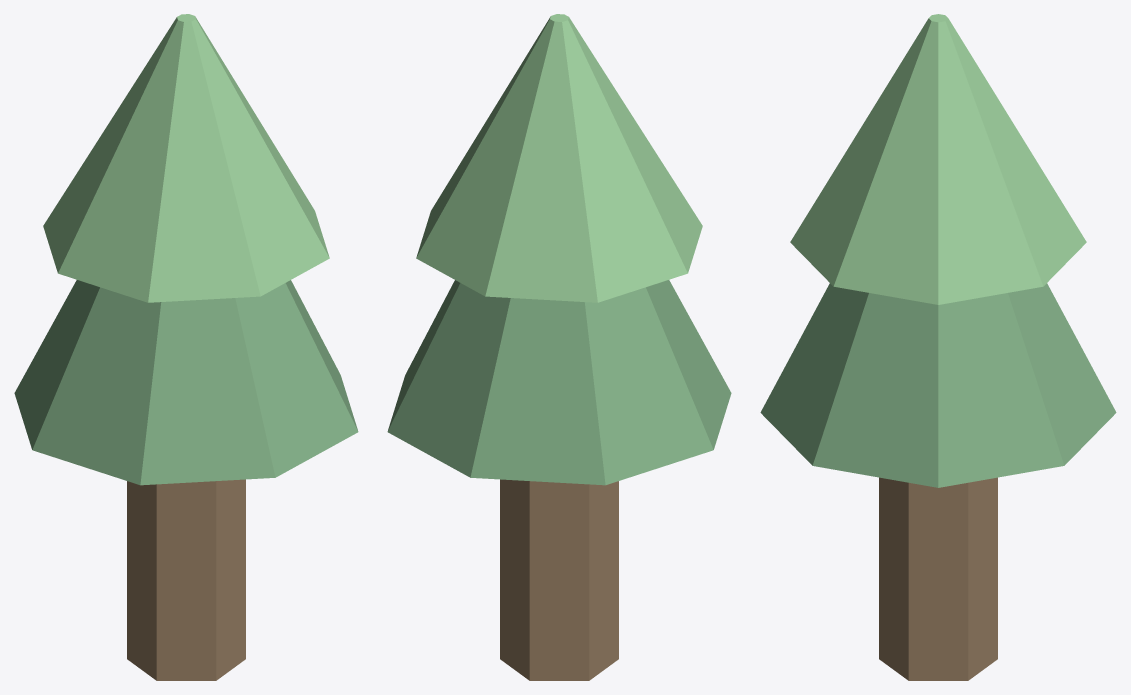
Rendered from tree_b.glb.
3 renders of one model, left to right at view 1: azimuth 30°, elevation 25°; view 2: azimuth 150°, elevation 25°; view 3: azimuth 270°, elevation 25°, orthographic.
Visible parts, largest first — view 1: tree_b; view 2: tree_b; view 3: tree_b.
Boxes of the visible parts, x1,y1,x2,y2 form: tree_b: [14, 14, 358, 680]; tree_b: [387, 14, 731, 680]; tree_b: [760, 14, 1116, 680].
Size of the model in its own units: 0.72 by 1.43 by 0.72.
